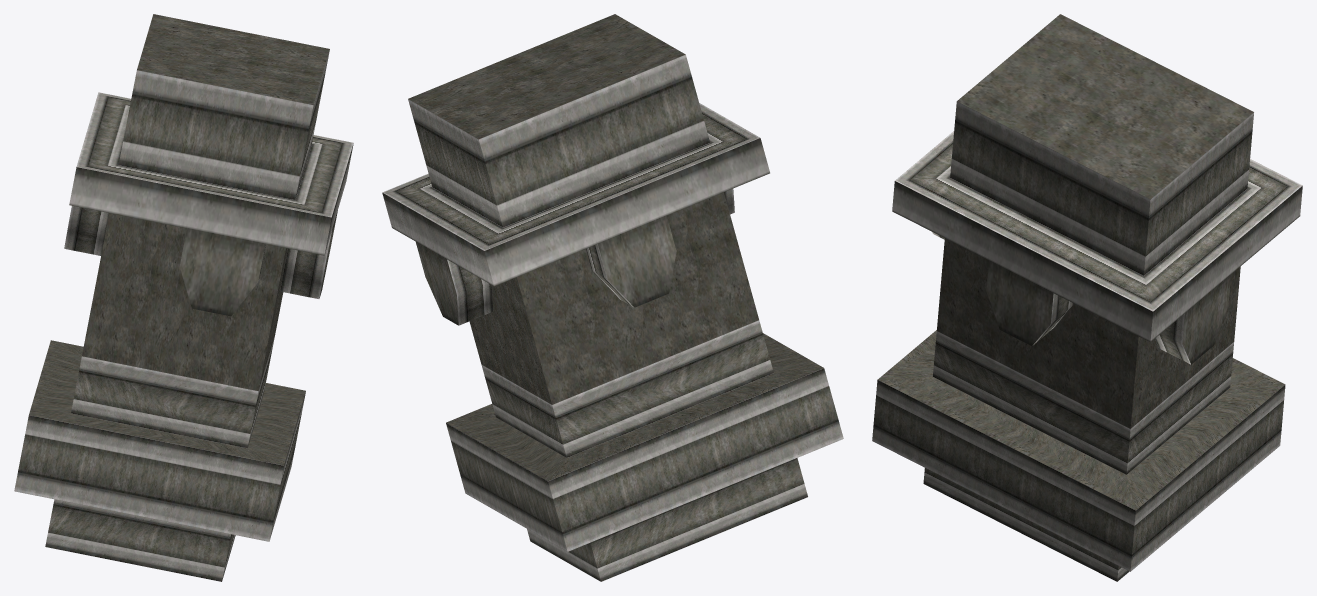
The model's file is DWARF_PALACE_MAINHALL_BALK_DEBREE05.fbx.
3 views of the same model, side by side, from view 1: azimuth 30°, elevation 25°; view 2: azimuth 150°, elevation 25°; view 3: azimuth 270°, elevation 25° (orthographic). The views are drawn at different scales.
Visible parts, largest first — view 1: DWARF_PALACE_MAINHALL_BALK_DEBREE05; view 2: DWARF_PALACE_MAINHALL_BALK_DEBREE05; view 3: DWARF_PALACE_MAINHALL_BALK_DEBREE05.
Boxes of the visible parts, x1,y1,x2,y2 form: DWARF_PALACE_MAINHALL_BALK_DEBREE05: (14, 14, 353, 581); DWARF_PALACE_MAINHALL_BALK_DEBREE05: (382, 14, 843, 581); DWARF_PALACE_MAINHALL_BALK_DEBREE05: (872, 14, 1302, 581).
Size of the model in its own units: 18279 by 21894 by 16928.
2 materials, 2 textured.
